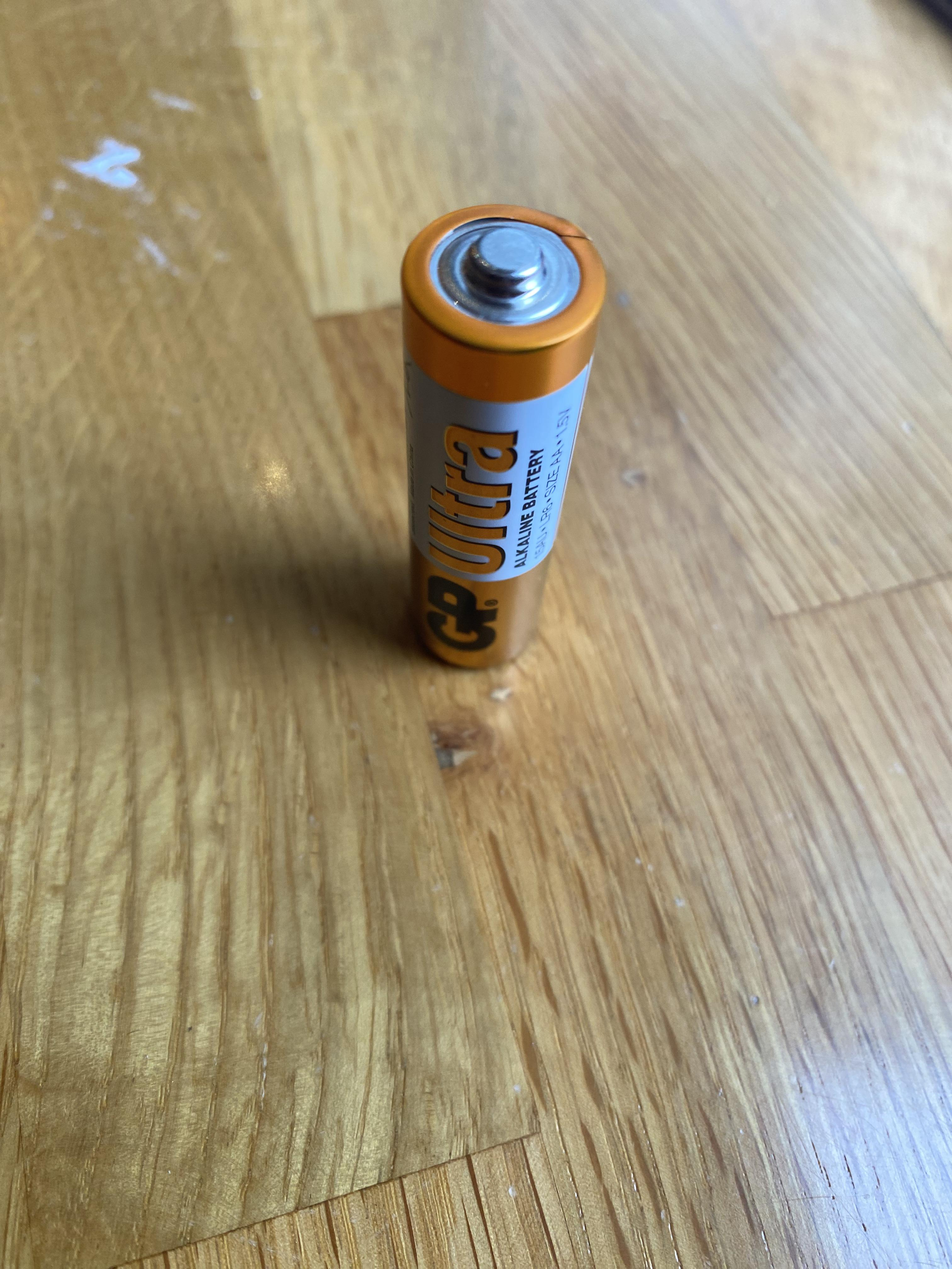AA: (398, 201, 607, 670)
